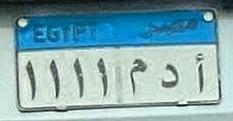1: (93, 55, 111, 100), (23, 60, 41, 101), (71, 58, 87, 100), (48, 58, 63, 100)
alif: (190, 49, 209, 97)
daal: (159, 62, 181, 96)
meem: (127, 56, 149, 101)
